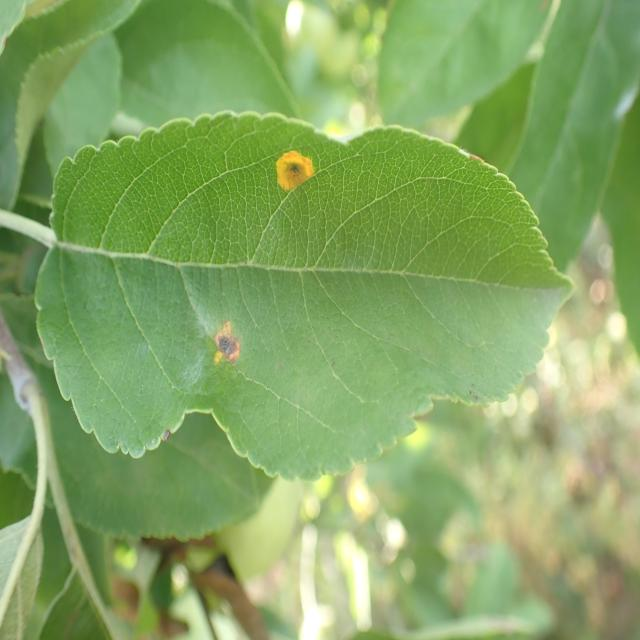Rust: (266, 140, 318, 210), (207, 315, 246, 374)
